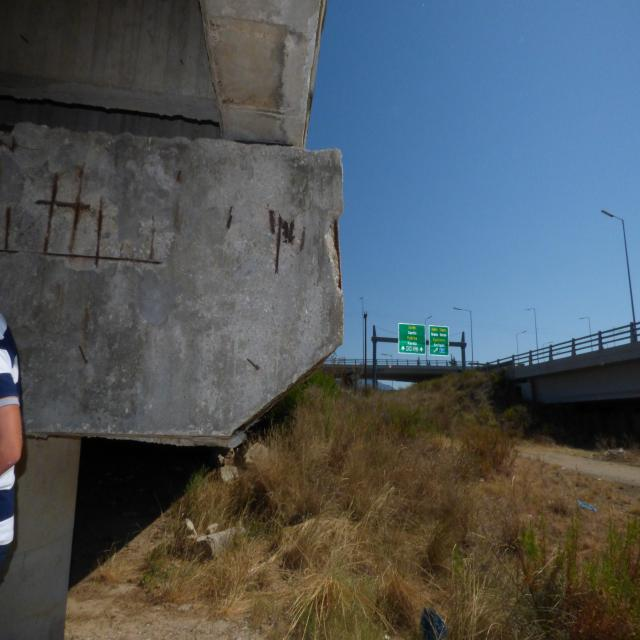corrosion: (0, 148, 184, 283), (256, 202, 308, 268), (328, 217, 344, 300), (76, 300, 93, 369), (221, 204, 239, 234), (242, 352, 264, 375)
